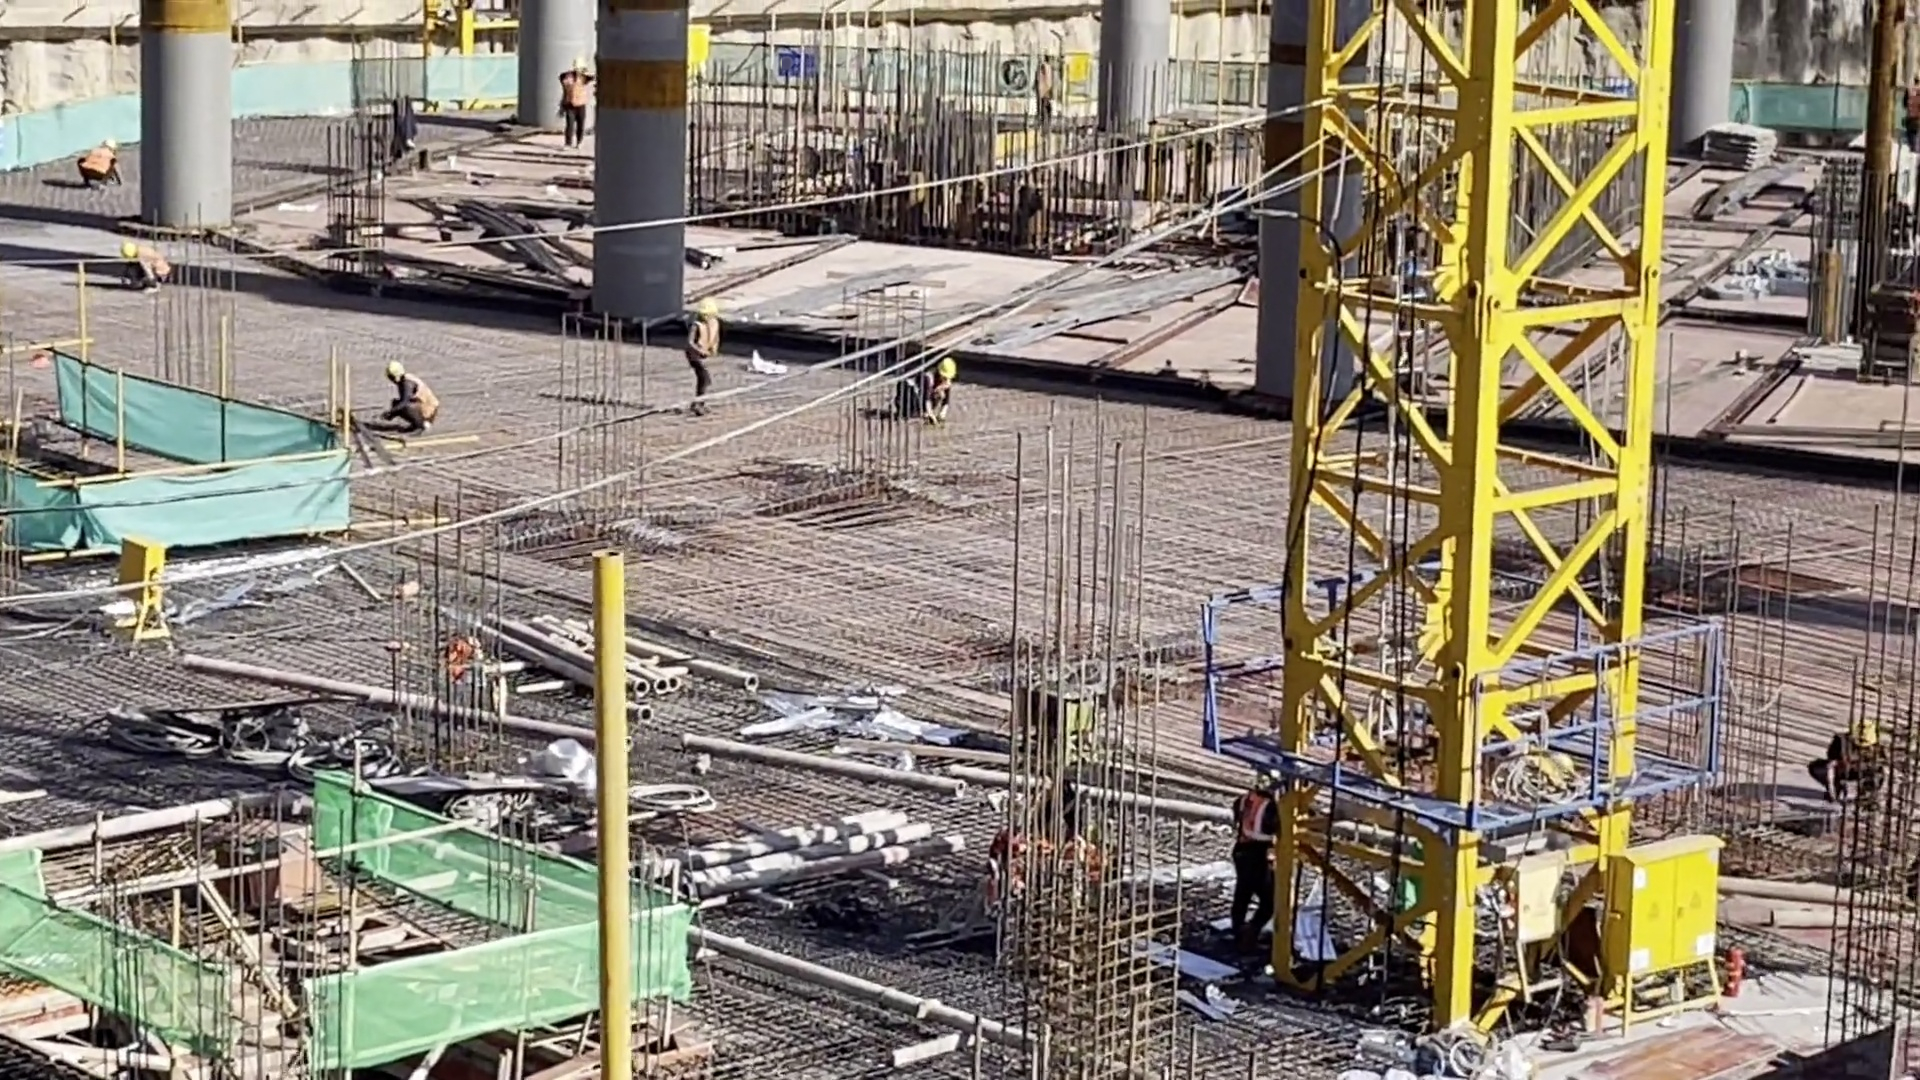helmet: (1854, 720, 1875, 746), (937, 357, 956, 379), (697, 297, 718, 315), (119, 242, 136, 259), (388, 362, 408, 376), (572, 57, 588, 70)
person: (1228, 766, 1275, 961), (1812, 720, 1881, 797), (385, 358, 440, 438), (684, 296, 717, 415), (558, 57, 597, 151), (899, 357, 958, 422), (120, 243, 170, 295), (77, 139, 121, 187), (1033, 45, 1056, 124)
vest: (1239, 796, 1269, 850), (406, 374, 438, 422), (690, 319, 716, 362), (563, 77, 585, 119), (82, 149, 117, 172)
